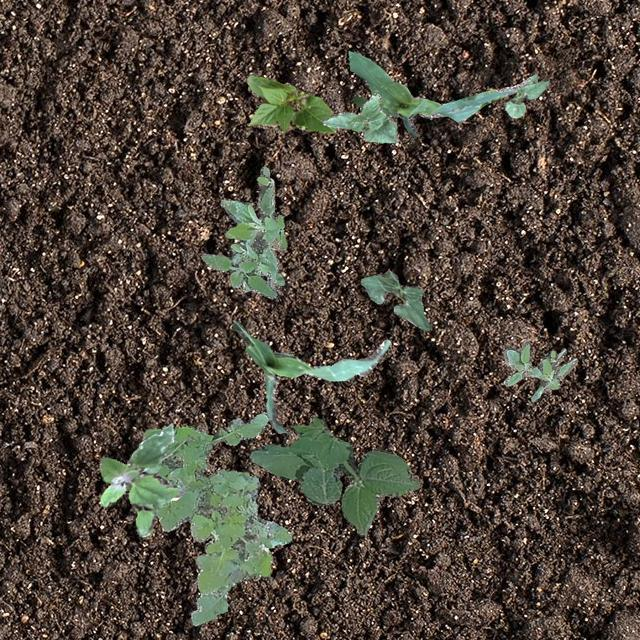crop: (232, 320, 388, 432), (348, 50, 536, 136), (245, 74, 335, 132), (360, 270, 430, 330), (322, 92, 398, 142), (504, 78, 548, 116)
weed: (142, 410, 290, 624), (248, 416, 420, 534), (98, 424, 184, 536), (220, 164, 286, 290), (502, 340, 576, 400), (200, 252, 276, 298)
